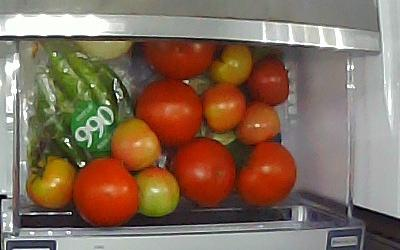tomato: (134, 80, 204, 146), (72, 158, 139, 226), (175, 138, 236, 207), (235, 142, 297, 208), (142, 41, 215, 80), (111, 118, 161, 171), (25, 156, 75, 208), (133, 167, 180, 217), (202, 84, 248, 133), (249, 55, 289, 107), (235, 101, 281, 143), (208, 45, 252, 87)
